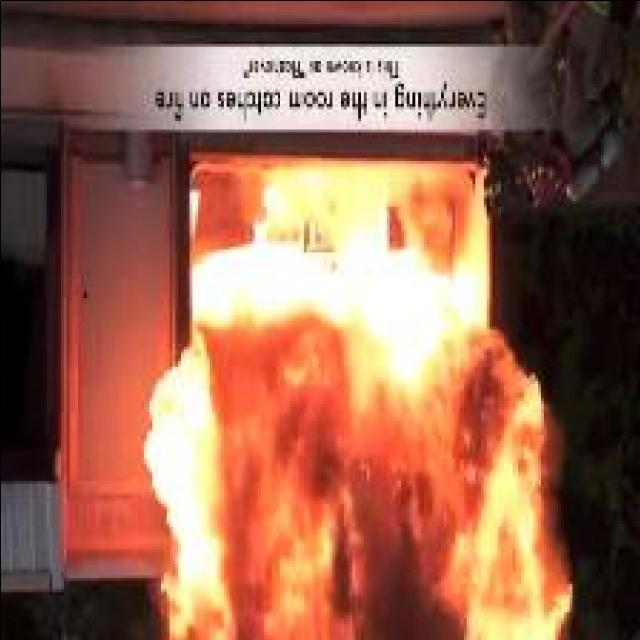Fire: (142, 240, 574, 640)
